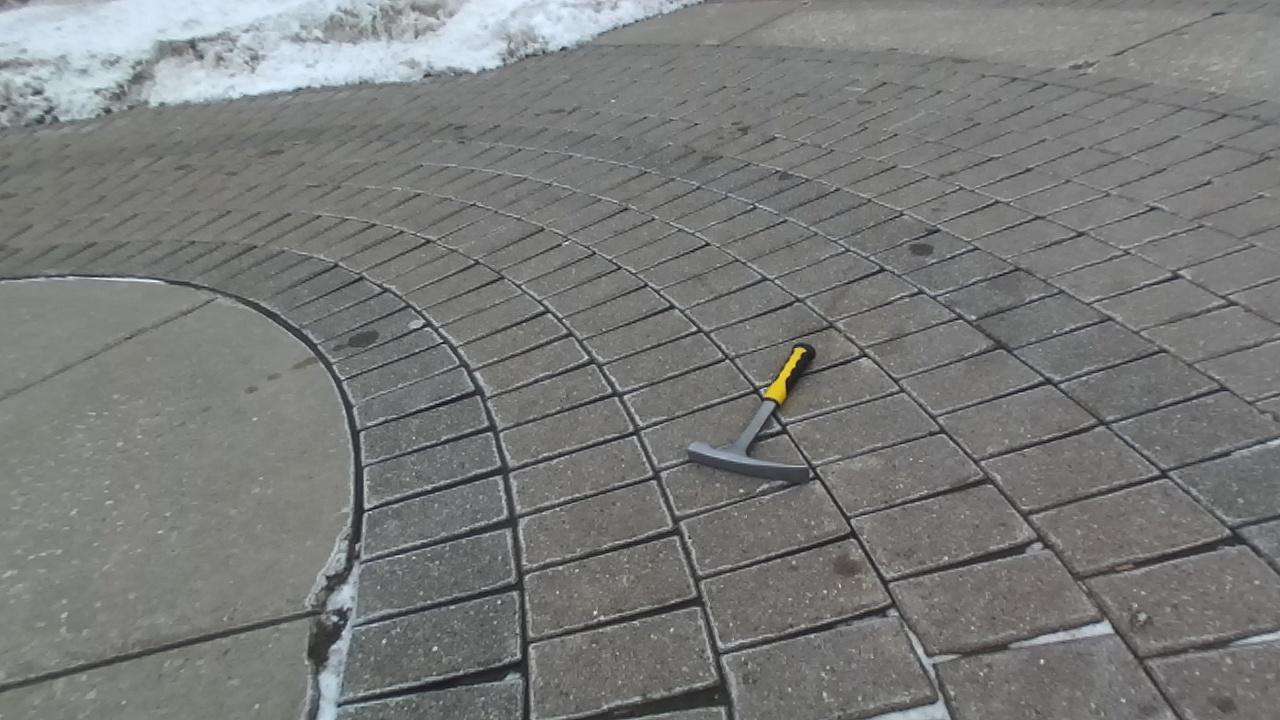pick: (689, 343, 815, 480)
